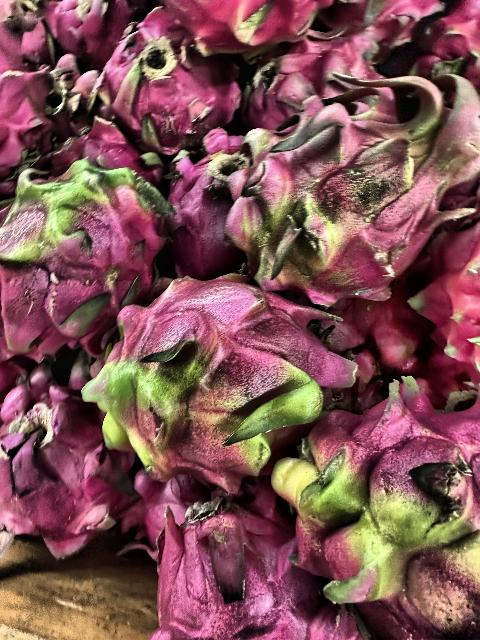buah-naga-belum-matang: (93, 270, 354, 478), (288, 398, 480, 640), (252, 93, 472, 291), (3, 163, 171, 345)
buah-naga-matang: (140, 486, 353, 640), (0, 376, 122, 556), (105, 22, 236, 146), (247, 26, 395, 126), (163, 132, 257, 282), (19, 59, 97, 138), (56, 1, 138, 62)
